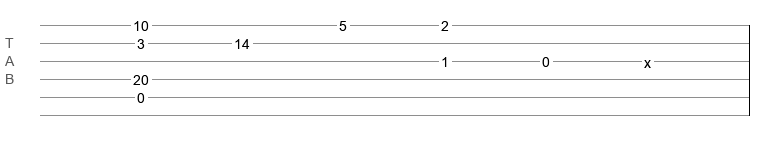0: (137, 90, 145, 100), (542, 54, 550, 64)
1: (441, 54, 449, 64)
10: (133, 18, 149, 28)
14: (234, 36, 250, 46)
2: (441, 18, 449, 28)
20: (133, 72, 149, 82)
3: (137, 36, 145, 46)
5: (339, 18, 347, 28)
x: (644, 55, 651, 63)
